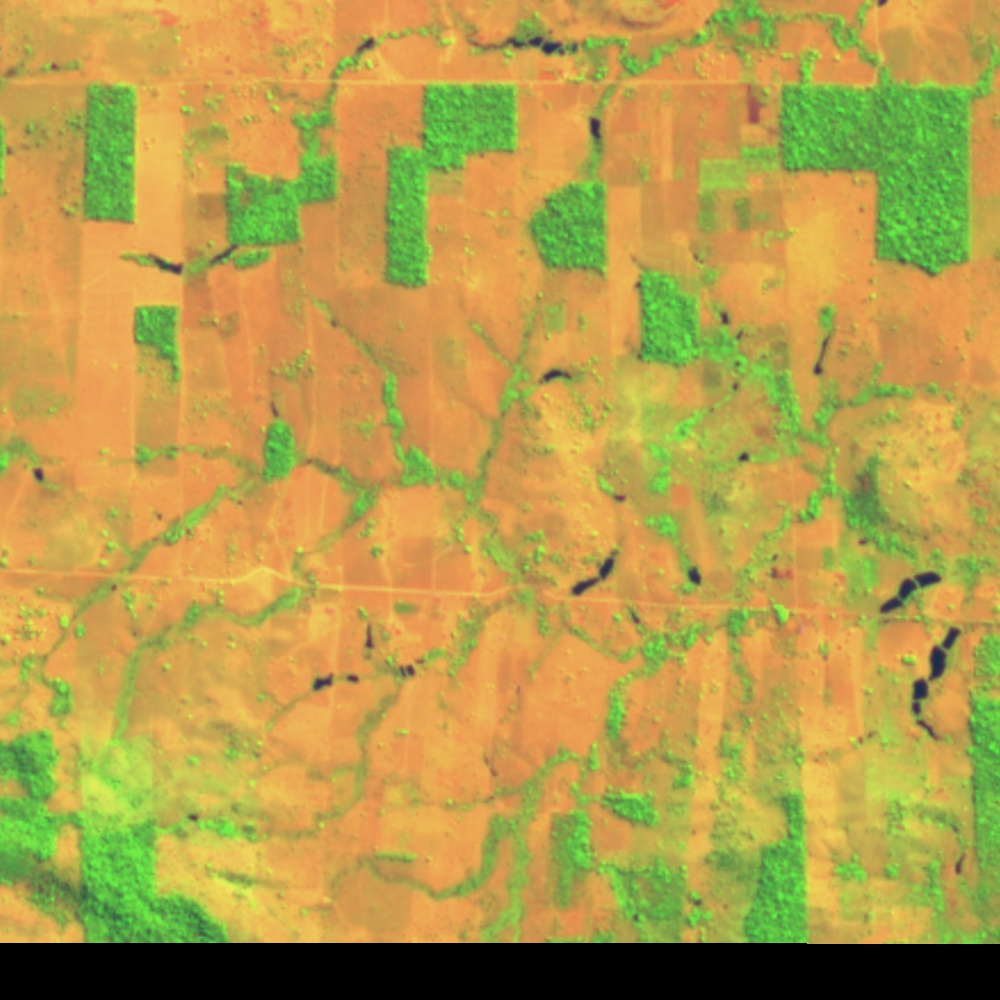illegal: (875, 567, 974, 747), (300, 616, 441, 691), (349, 36, 594, 58), (143, 239, 244, 281), (714, 307, 750, 395), (575, 547, 624, 600), (813, 332, 836, 381), (543, 363, 578, 385), (687, 559, 710, 587), (589, 113, 602, 146), (29, 462, 46, 482), (740, 449, 762, 464)
